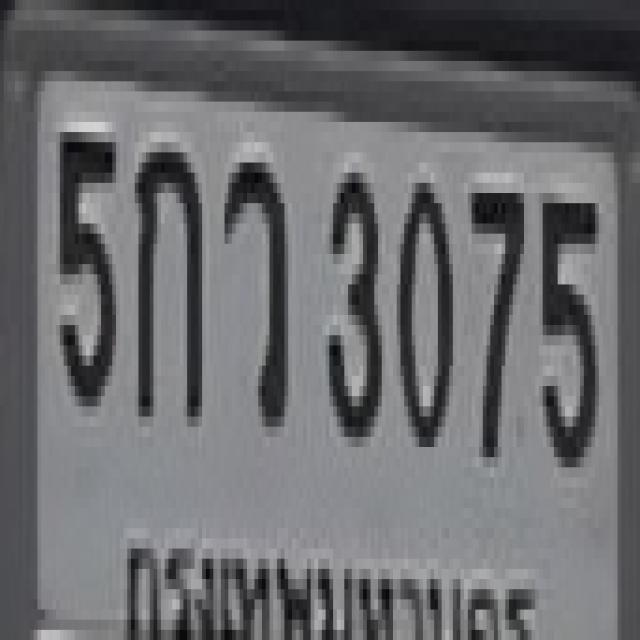0: (393, 173, 449, 437)
3: (322, 162, 378, 426)
5: (56, 122, 112, 396), (539, 183, 595, 457)
7: (468, 183, 520, 447)
A01: (131, 132, 198, 417)
A37: (221, 152, 284, 416)
